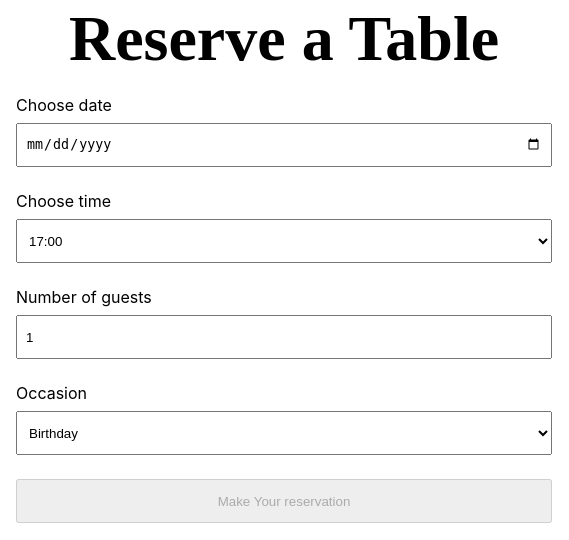
Test: Forms Valid state functions
The image size is (569, 540).
In the date field labelled "Choose date": (284, 145) [16,123,552,167], type "2049-12-12"
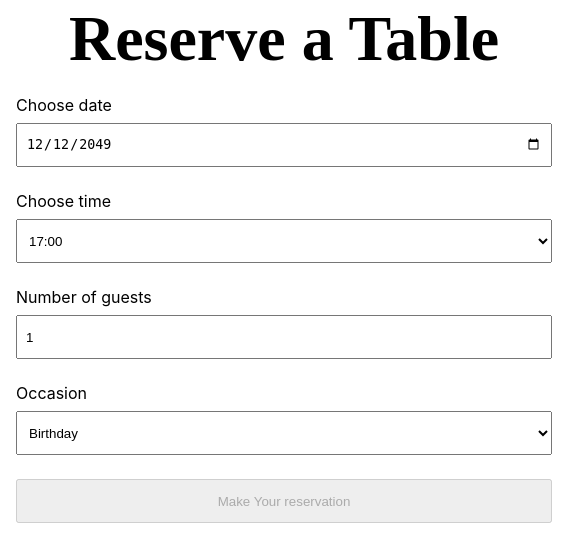
Select "23:30" in the dropdown labelled "Choose time": (284, 241) [16,219,552,263]
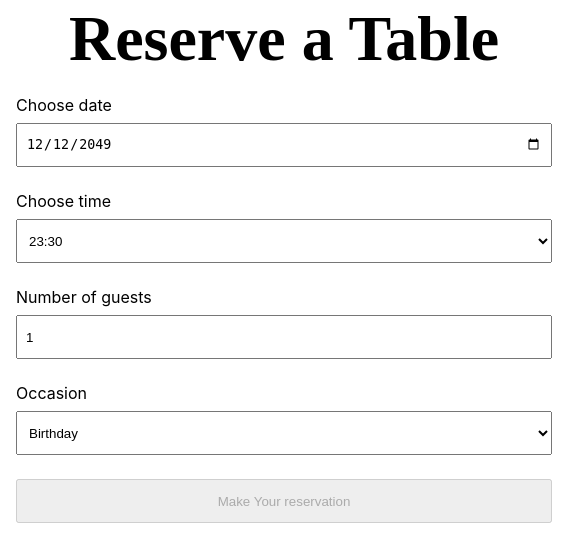
In the number field labelled "Number of guests": (284, 337) [16,315,552,359], type "2"
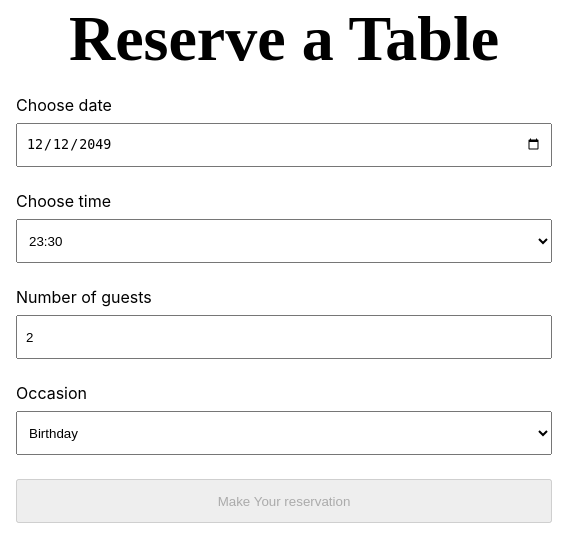
Select "Anniversary" in the dropdown labelled "Occasion": (284, 433) [16,411,552,455]
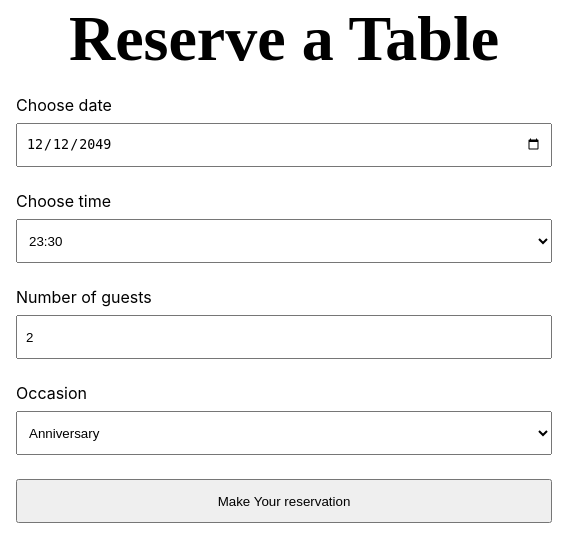
expect the button "Make Your reservation" is enabled: met, box [16,479,552,523]
